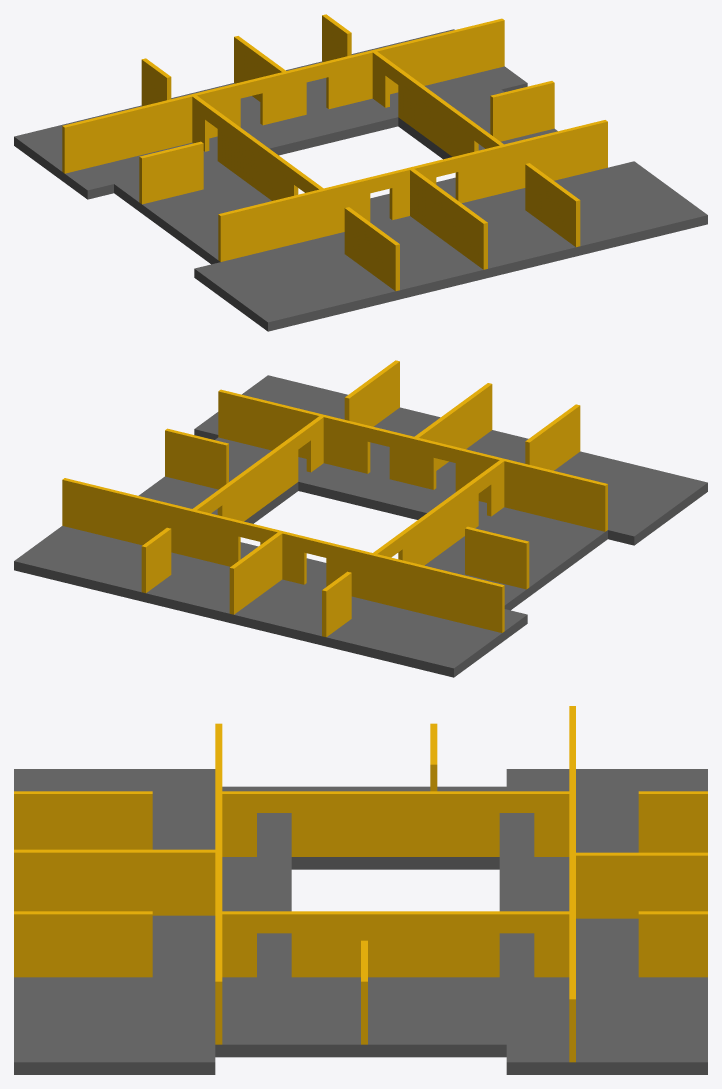
File: residential.dae
3 renders of one model, top to bottom at view 1: azimuth 30°, elevation 25°; view 2: azimuth 150°, elevation 25°; view 3: azimuth 270°, elevation 25°, orthographic. The views are drawn at different scales.
Visible parts, largest first — view 1: a860cd30-3ae7-4934-aa1c-a8930716e639, a11197c4-67f1-4b5a-ae4e-c3464c2e10e5, ecf03c88-44c7-46a2-b6ee-611a5a51bc7a, a026c560-3f9b-4f02-bf5a-5793d6683f3c, a7e6579b-df88-47a4-9ba9-dea8d789a08d, a45fa83f-ef7c-45e7-8a2a-cabd1f0e12c9, adad6fce-4697-4802-9435-e4b8286792de, a3ddaea9-84e9-4ebe-85c2-8038d7a29034; view 2: a860cd30-3ae7-4934-aa1c-a8930716e639, a11197c4-67f1-4b5a-ae4e-c3464c2e10e5, ecf03c88-44c7-46a2-b6ee-611a5a51bc7a, a026c560-3f9b-4f02-bf5a-5793d6683f3c, a45fa83f-ef7c-45e7-8a2a-cabd1f0e12c9, a7e6579b-df88-47a4-9ba9-dea8d789a08d, a3ddaea9-84e9-4ebe-85c2-8038d7a29034, adad6fce-4697-4802-9435-e4b8286792de; view 3: a860cd30-3ae7-4934-aa1c-a8930716e639, a11197c4-67f1-4b5a-ae4e-c3464c2e10e5, a7e6579b-df88-47a4-9ba9-dea8d789a08d, a45fa83f-ef7c-45e7-8a2a-cabd1f0e12c9, a3ddaea9-84e9-4ebe-85c2-8038d7a29034, adad6fce-4697-4802-9435-e4b8286792de, a026c560-3f9b-4f02-bf5a-5793d6683f3c.
Part boxes in pixels (x1,y1,x2,y2): a860cd30-3ae7-4934-aa1c-a8930716e639: (14,29,707,331); a11197c4-67f1-4b5a-ae4e-c3464c2e10e5: (62,18,607,269); ecf03c88-44c7-46a2-b6ee-611a5a51bc7a: (139,141,203,204); a026c560-3f9b-4f02-bf5a-5793d6683f3c: (490,81,554,141); a7e6579b-df88-47a4-9ba9-dea8d789a08d: (525,163,580,247); a45fa83f-ef7c-45e7-8a2a-cabd1f0e12c9: (344,207,399,291); adad6fce-4697-4802-9435-e4b8286792de: (141,58,171,105); a3ddaea9-84e9-4ebe-85c2-8038d7a29034: (322,14,351,61); a860cd30-3ae7-4934-aa1c-a8930716e639: (14,375,707,677); a11197c4-67f1-4b5a-ae4e-c3464c2e10e5: (62,383,607,632); ecf03c88-44c7-46a2-b6ee-611a5a51bc7a: (465,526,529,589); a026c560-3f9b-4f02-bf5a-5793d6683f3c: (165,428,228,489); a45fa83f-ef7c-45e7-8a2a-cabd1f0e12c9: (525,404,580,470); a7e6579b-df88-47a4-9ba9-dea8d789a08d: (344,360,399,426); a3ddaea9-84e9-4ebe-85c2-8038d7a29034: (141,527,171,593); adad6fce-4697-4802-9435-e4b8286792de: (322,571,351,637); a860cd30-3ae7-4934-aa1c-a8930716e639: (14,769,707,1074); a11197c4-67f1-4b5a-ae4e-c3464c2e10e5: (14,706,707,1062); a7e6579b-df88-47a4-9ba9-dea8d789a08d: (14,911,152,977); a45fa83f-ef7c-45e7-8a2a-cabd1f0e12c9: (14,791,152,849); a3ddaea9-84e9-4ebe-85c2-8038d7a29034: (638,911,707,977); adad6fce-4697-4802-9435-e4b8286792de: (638,791,707,852); a026c560-3f9b-4f02-bf5a-5793d6683f3c: (361,940,367,1044).
Bounding box in the file's own units: 10 × 10 × 1.2.
